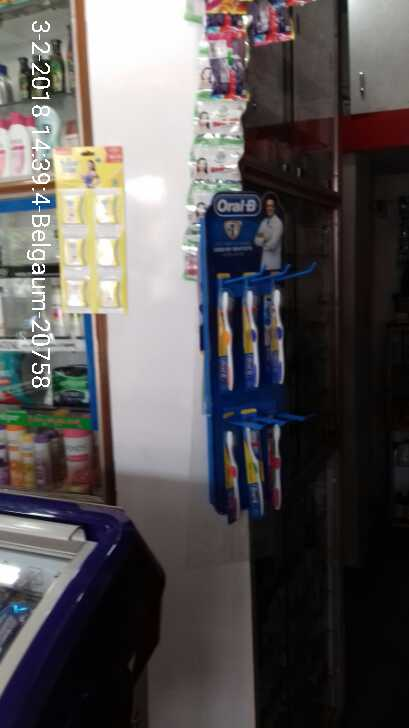oralb: (206, 282, 292, 395), (215, 424, 291, 517)
